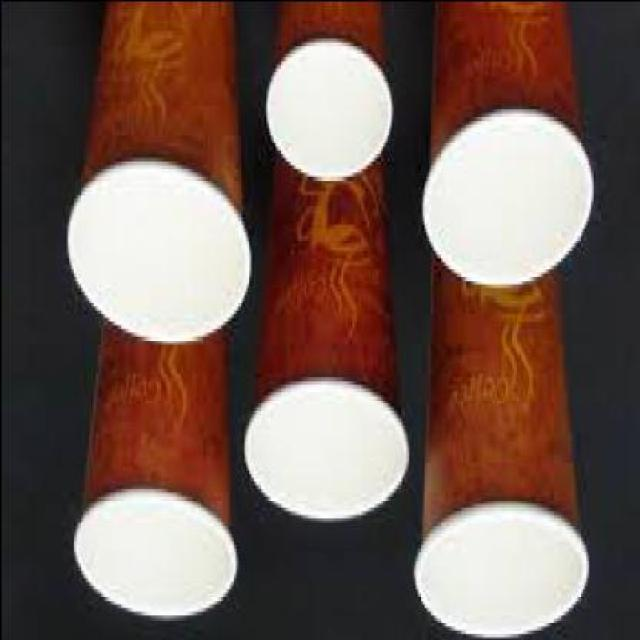PAPER: (414, 252, 594, 638), (68, 3, 254, 346), (244, 157, 410, 526), (76, 304, 239, 622), (423, 3, 595, 294), (266, 4, 394, 185)
